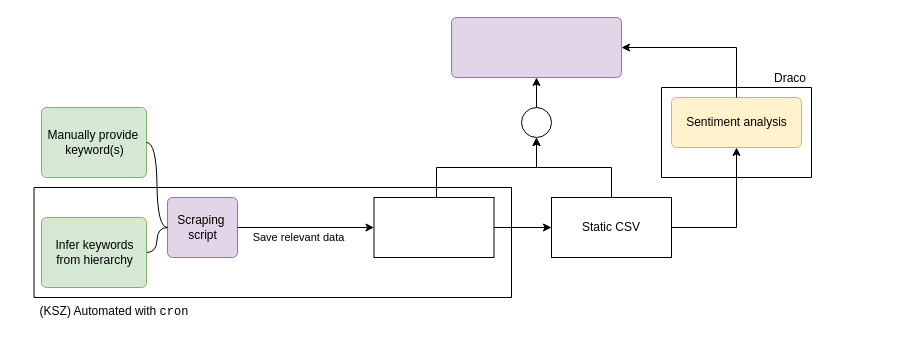
The diagram is 904 pixels wide and 344 high, and some of its shapes have lost their labels. Each missing label, with the centre of its shape:
"Interactive Dashboard" belongs at [536,47].
"MySQL Database" belongs at [433,227].
"OR" belongs at [536,122].
